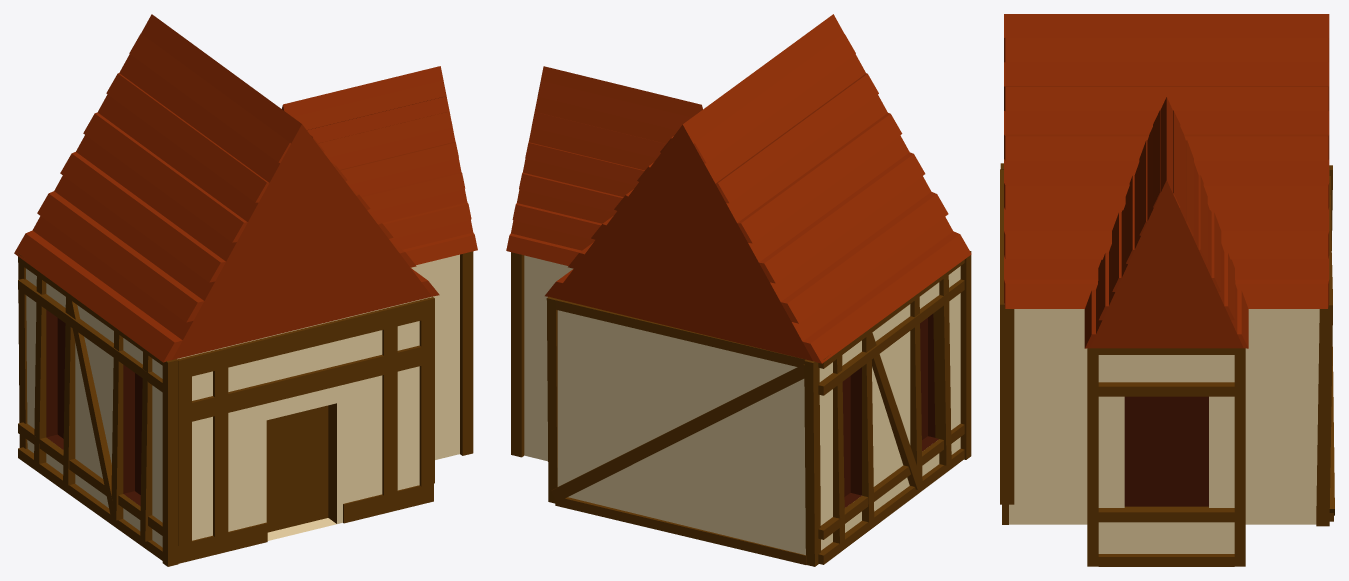
The model's file is house1.fbx.
3 renders of one model, left to right at view 1: azimuth 30°, elevation 25°; view 2: azimuth 150°, elevation 25°; view 3: azimuth 270°, elevation 25°, orthographic. The views are drawn at different scales.
Visible parts, largest first — view 1: Cube.048; view 2: Cube.048; view 3: Cube.048.
Part boxes in pixels (x1,y1,x2,y2): Cube.048: (14,14,477,566); Cube.048: (506,14,971,566); Cube.048: (1000,14,1334,566).
Bounding box in the file's own units: 541 × 601 × 412.
